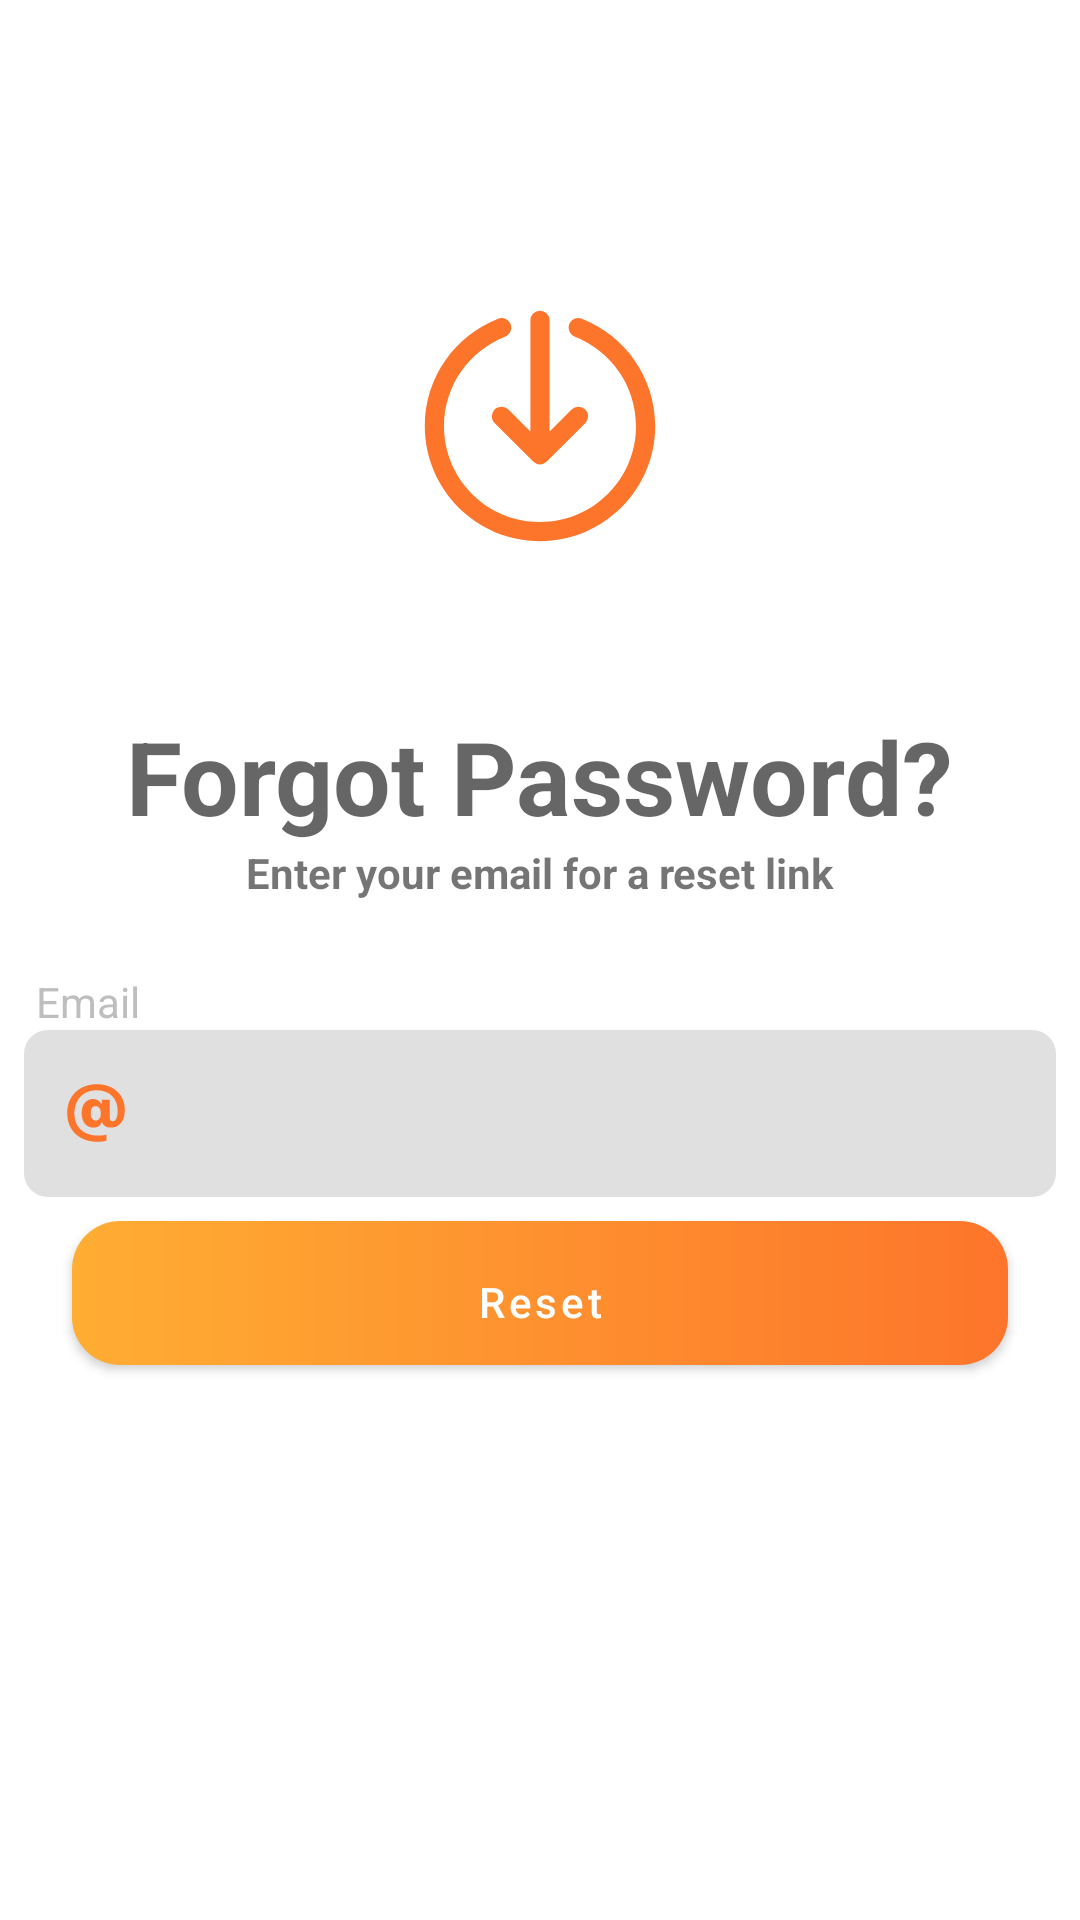

Screen size 1080 × 1920. Icon name, then its box in pixels as (x1, y1, x2, y2):
signin: (424, 310, 656, 542)
